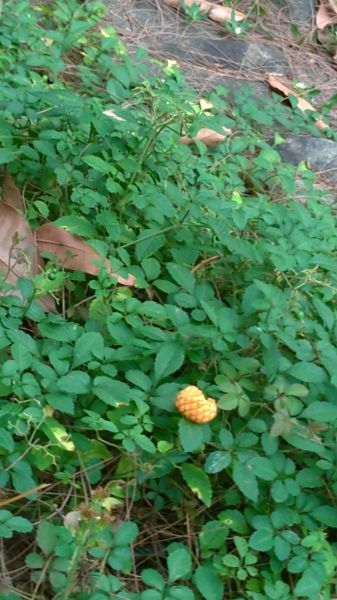eggs: (176, 381, 220, 428)
